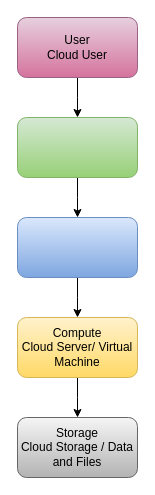
Some shapes in this 155 by 495 pixel diagram are drawn without their labels. The centre of each missing label's shape, as x and y in pixels:
"Internet Internet Connection" belongs at (77,147).
"Network Cloud Network" belongs at (77,247).
